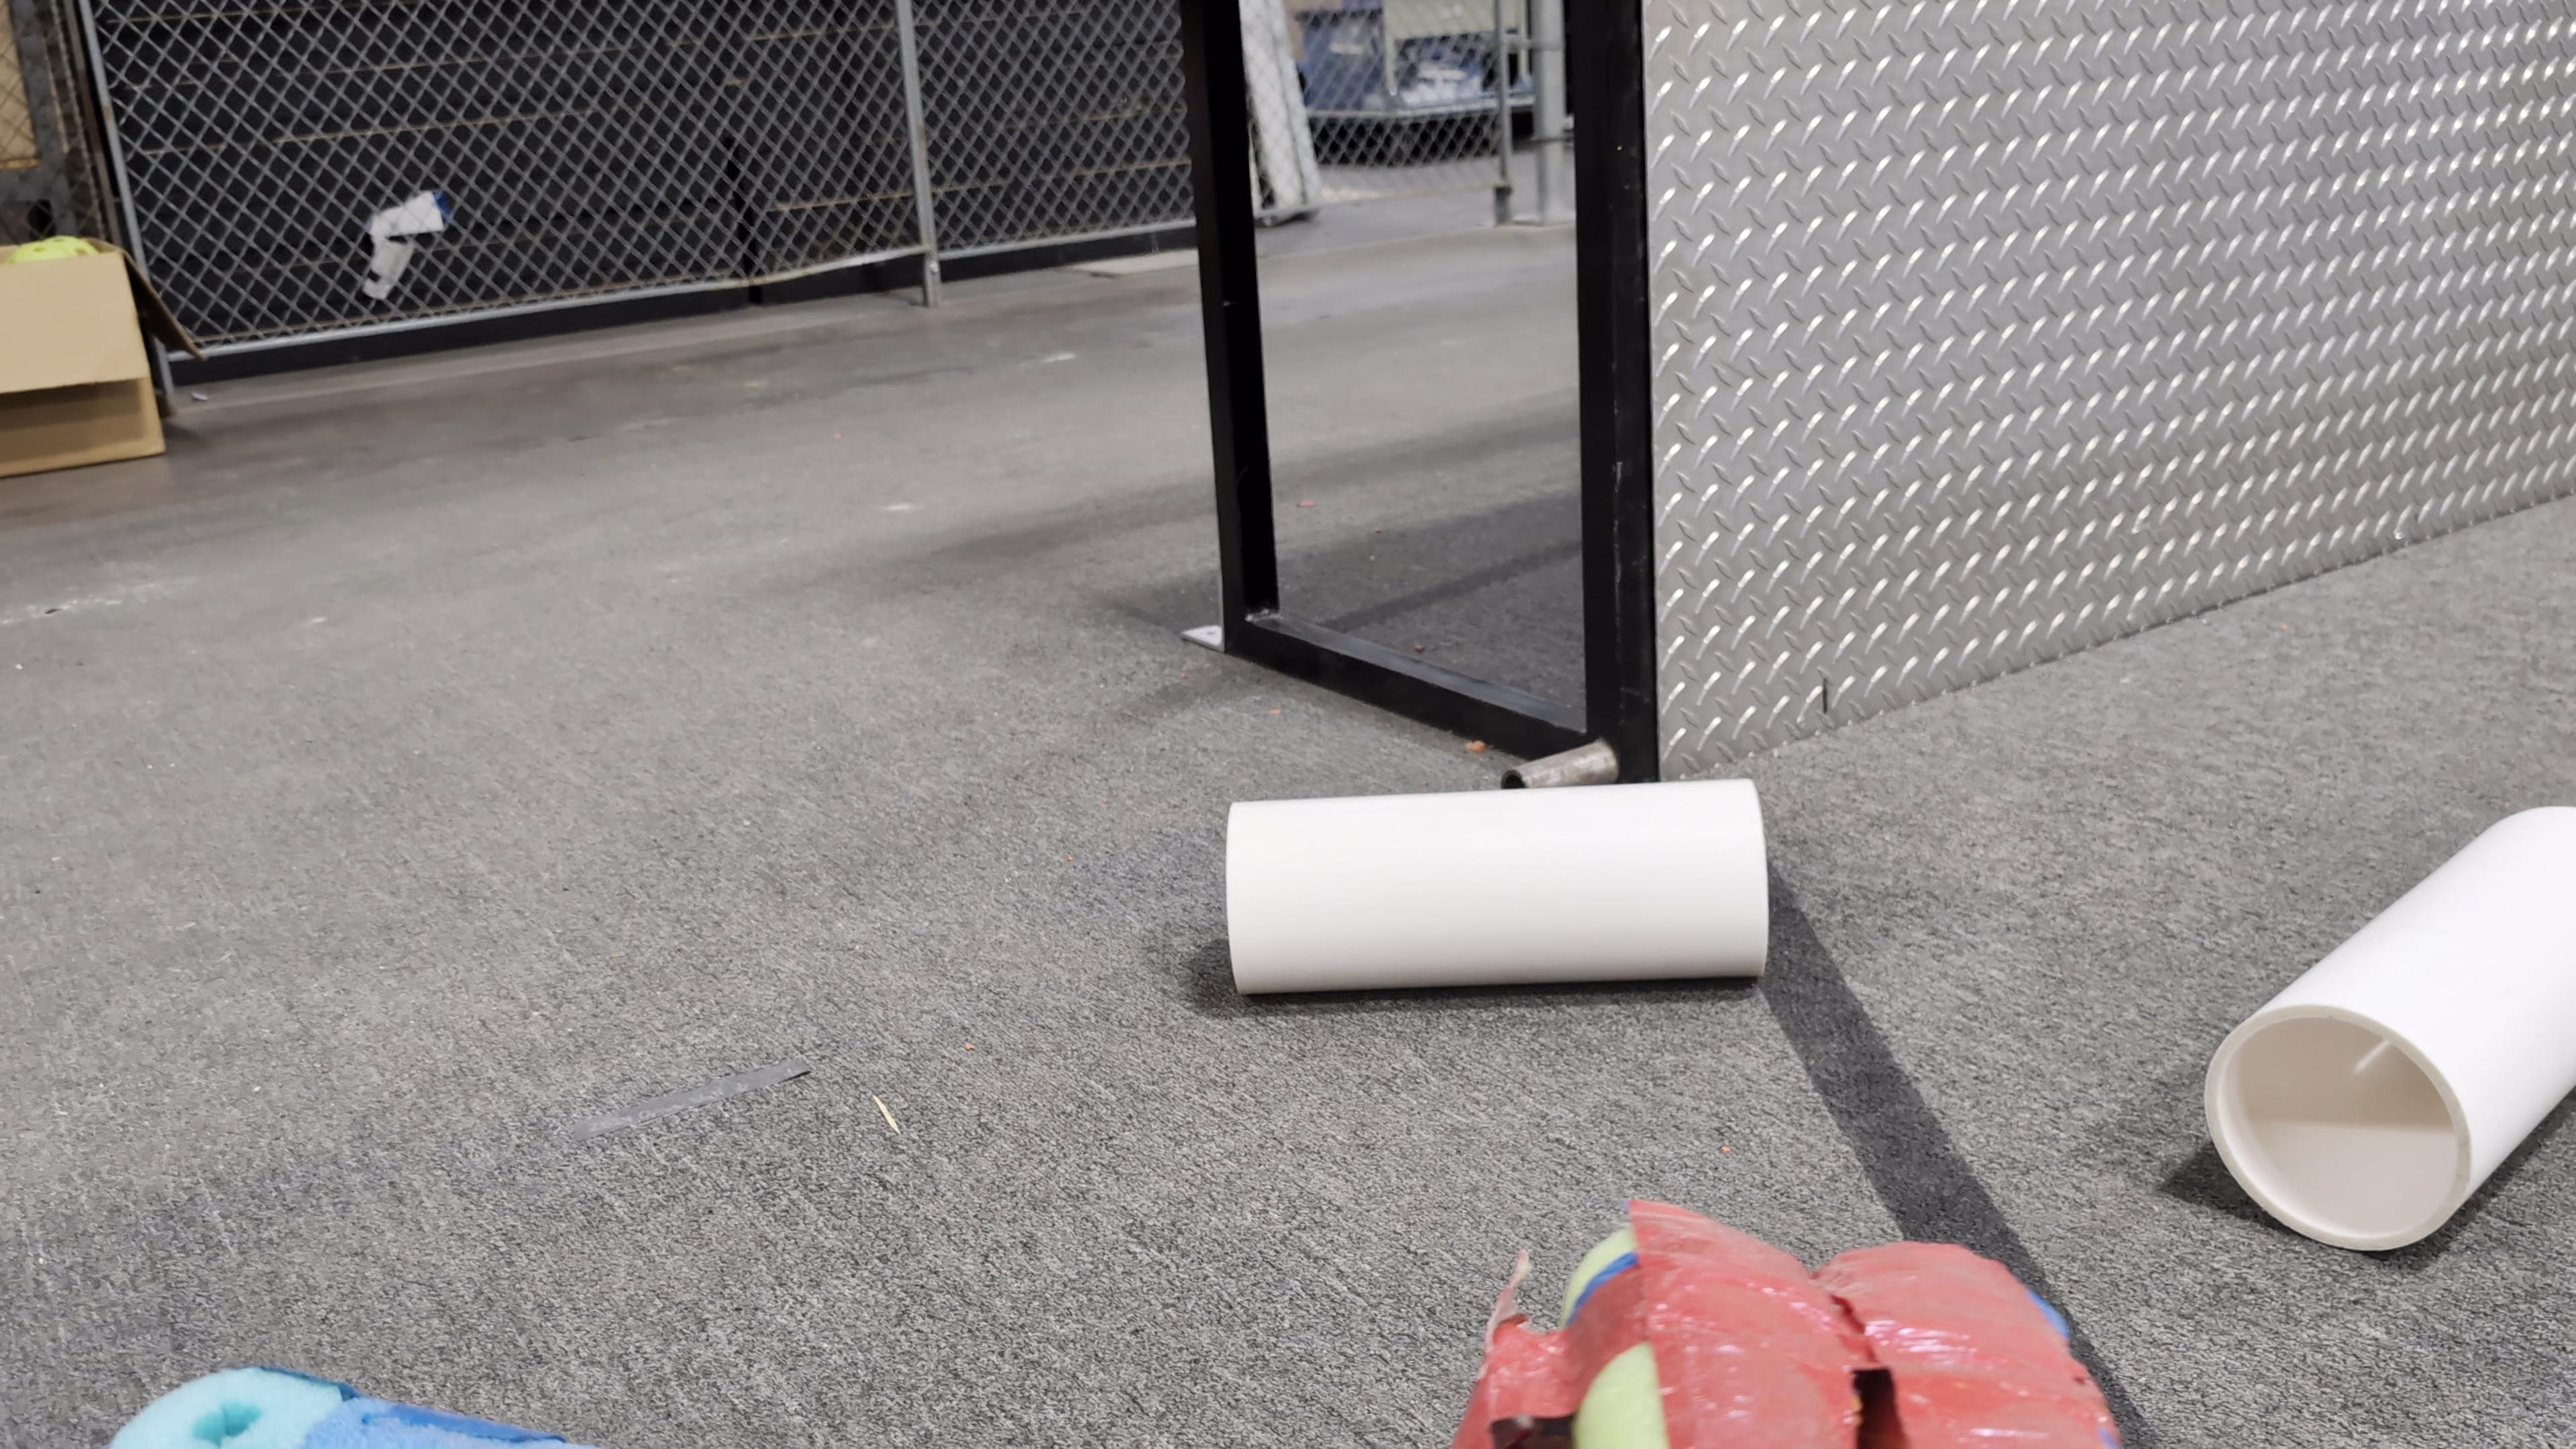coral: (2203, 800, 2574, 1251), (1223, 773, 1773, 994)
